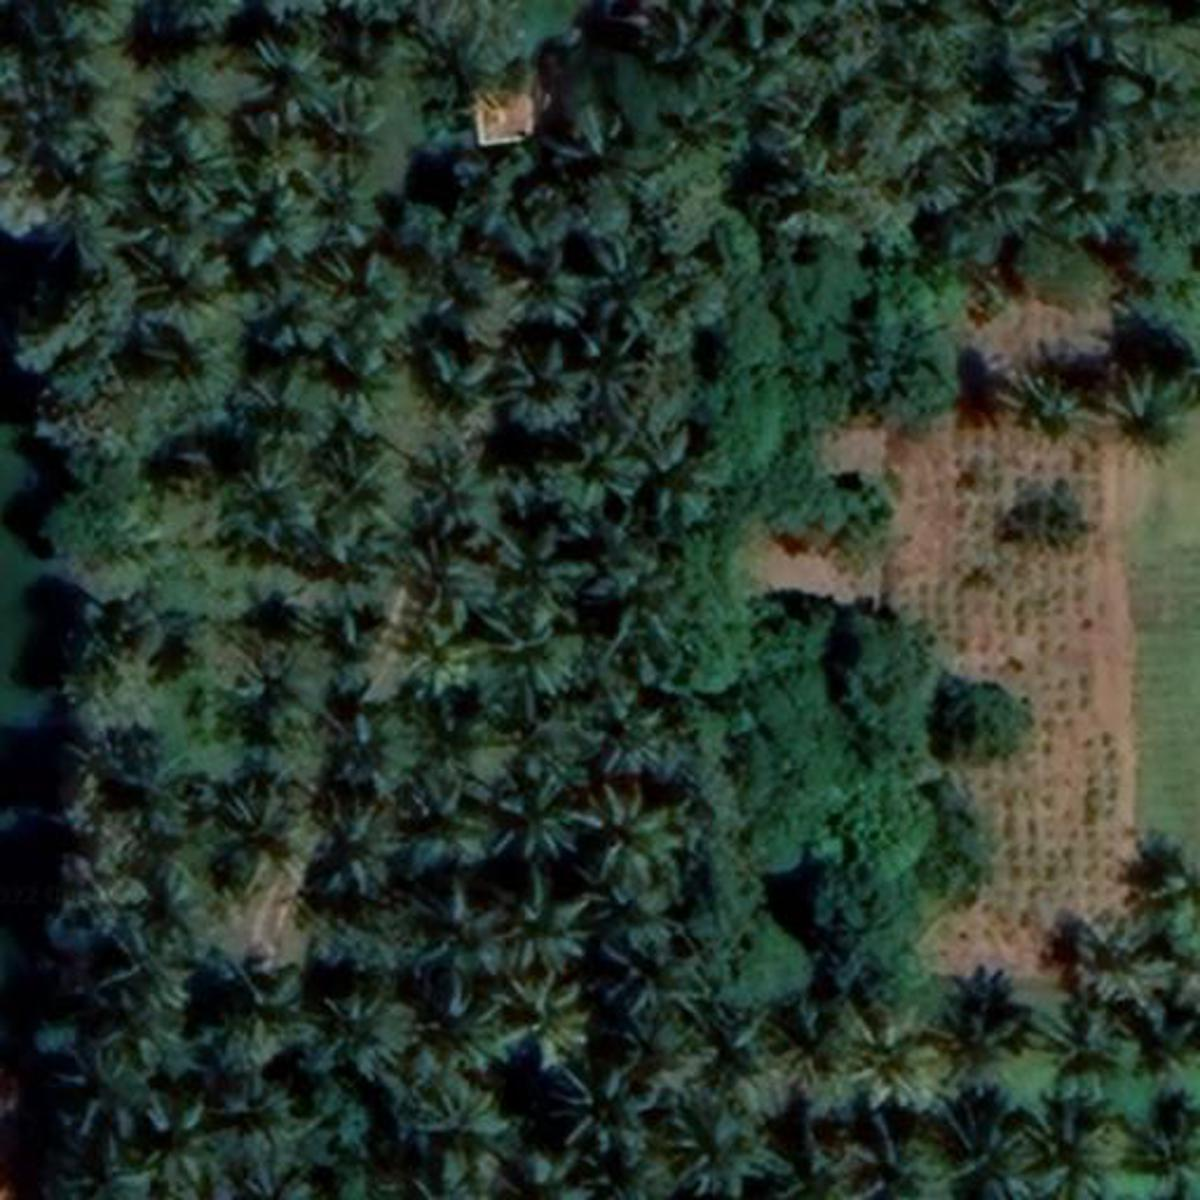coconut: (546, 100, 682, 222), (222, 951, 337, 1075), (255, 140, 389, 243), (584, 525, 705, 638), (405, 1075, 515, 1195), (124, 236, 248, 338), (478, 522, 597, 627), (1007, 1095, 1120, 1200), (822, 1005, 949, 1099), (569, 789, 693, 884), (234, 651, 342, 759), (56, 1045, 175, 1143), (314, 451, 421, 557), (1101, 1078, 1200, 1192), (935, 989, 1051, 1087), (658, 1005, 778, 1099), (140, 116, 251, 215), (495, 773, 609, 867), (1033, 996, 1149, 1087), (316, 796, 412, 907), (1042, 65, 1153, 159), (508, 229, 614, 325), (546, 1066, 656, 1157), (473, 611, 588, 698), (836, 1116, 965, 1192), (410, 762, 503, 864), (869, 53, 973, 145), (398, 604, 505, 691), (321, 991, 421, 1085), (625, 923, 710, 1033), (1075, 911, 1171, 1007), (216, 473, 321, 560), (327, 703, 440, 785), (246, 37, 351, 124), (656, 1105, 762, 1190), (133, 1105, 241, 1188), (426, 984, 525, 1073), (238, 274, 353, 351), (965, 142, 1057, 236), (96, 930, 203, 1010), (508, 878, 607, 965), (644, 16, 745, 100), (433, 890, 515, 989), (505, 979, 590, 1073), (215, 801, 311, 884), (253, 373, 344, 457), (412, 452, 513, 527), (557, 431, 649, 513), (1007, 360, 1099, 442), (505, 351, 602, 427), (414, 351, 508, 426), (581, 700, 677, 771), (1113, 373, 1200, 447), (604, 878, 684, 949), (1057, 7, 1162, 58)
